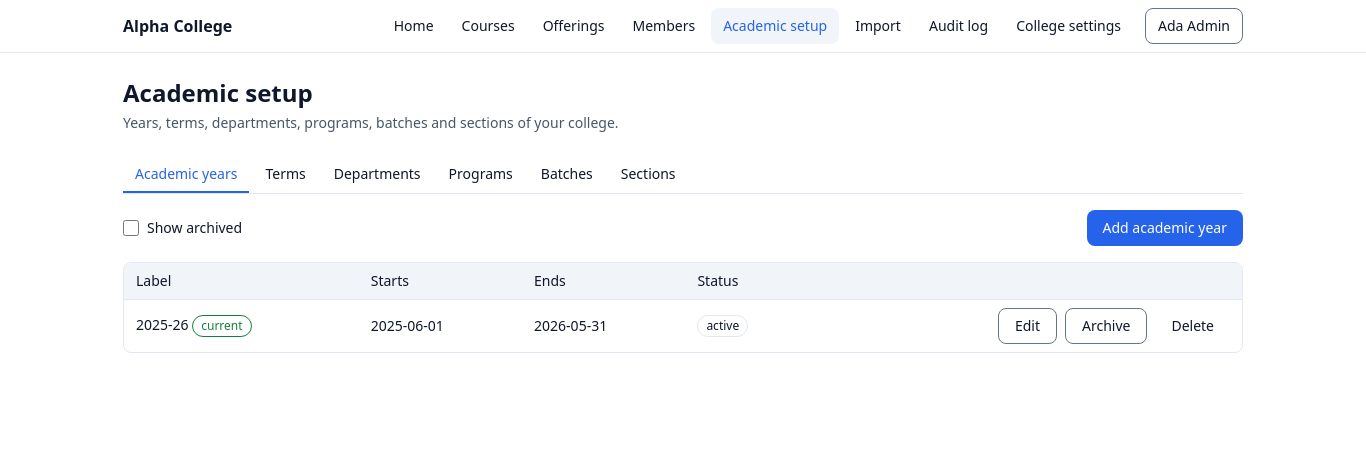
academic setup › terms and sections ask for their parent first and never load everything
Click the tab "Terms" at coordinates (286, 175), box [254,157,318,193]
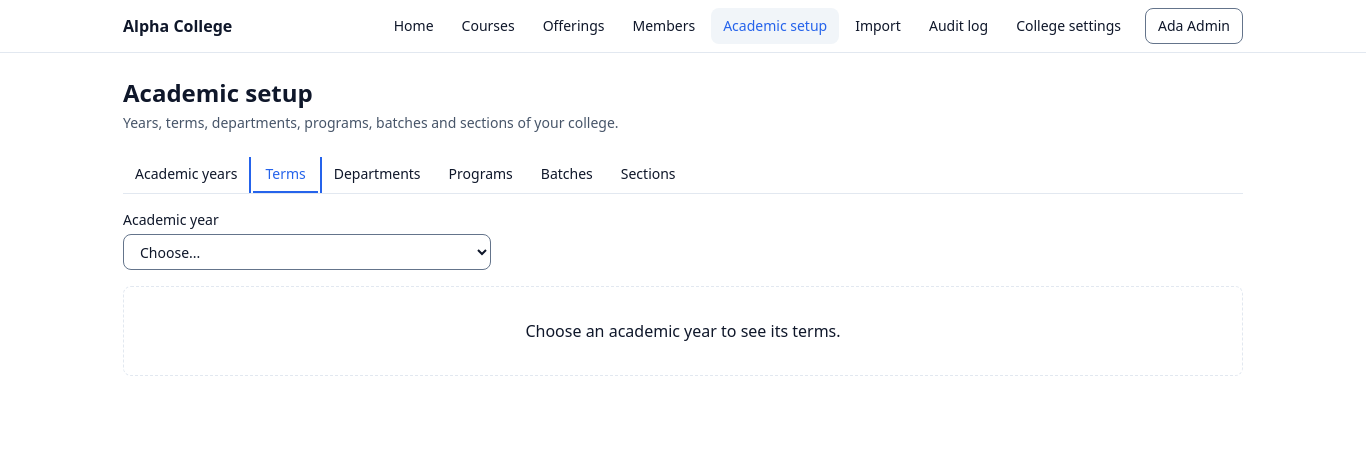
Check: the text "Choose an academic year to see its terms." is shown, box [525,320,840,342]
Select "2025-26" in the dropdown labelled "Academic year" at coordinates (307, 252), box [123,234,491,270]
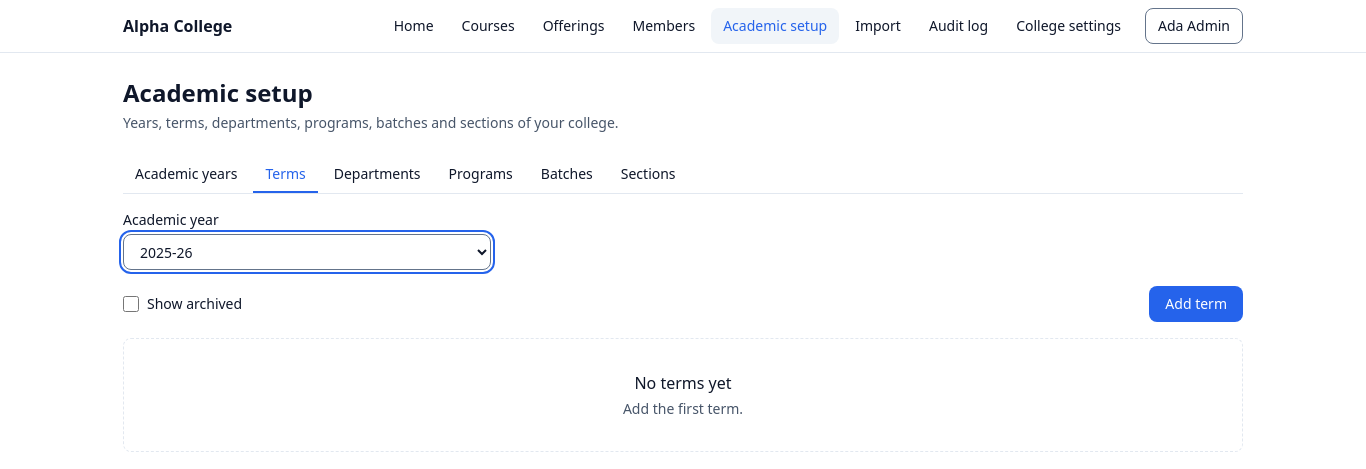
Check: the text "No terms yet" is shown, box [634,372,732,394]
Click the tab "Sections" at coordinates (648, 175), box [609,157,688,193]
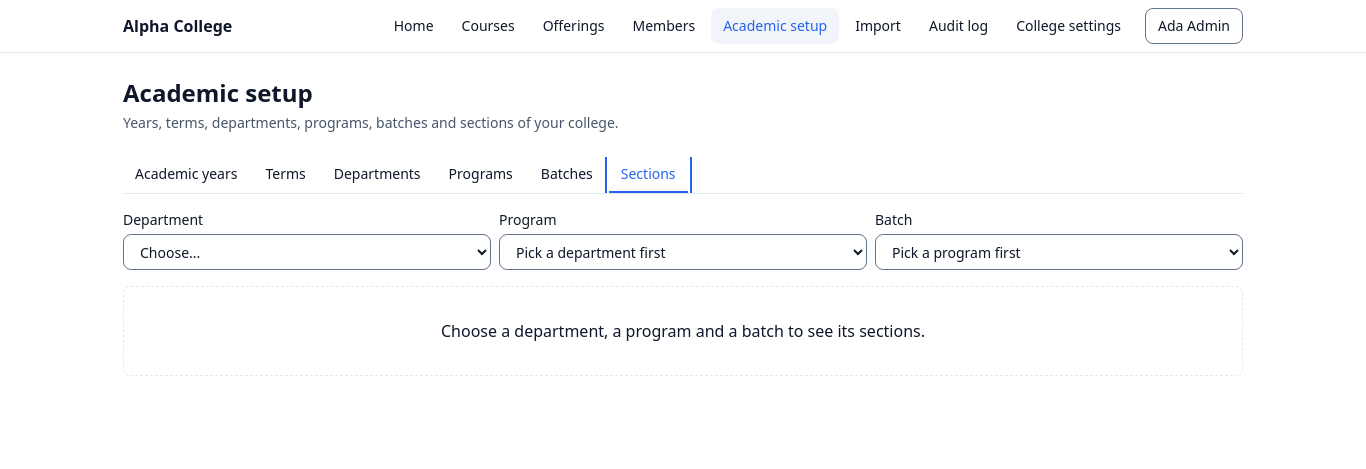
Check: the text "Choose a department, a program and a batch to see its sections." is shown, box [441,320,925,342]
